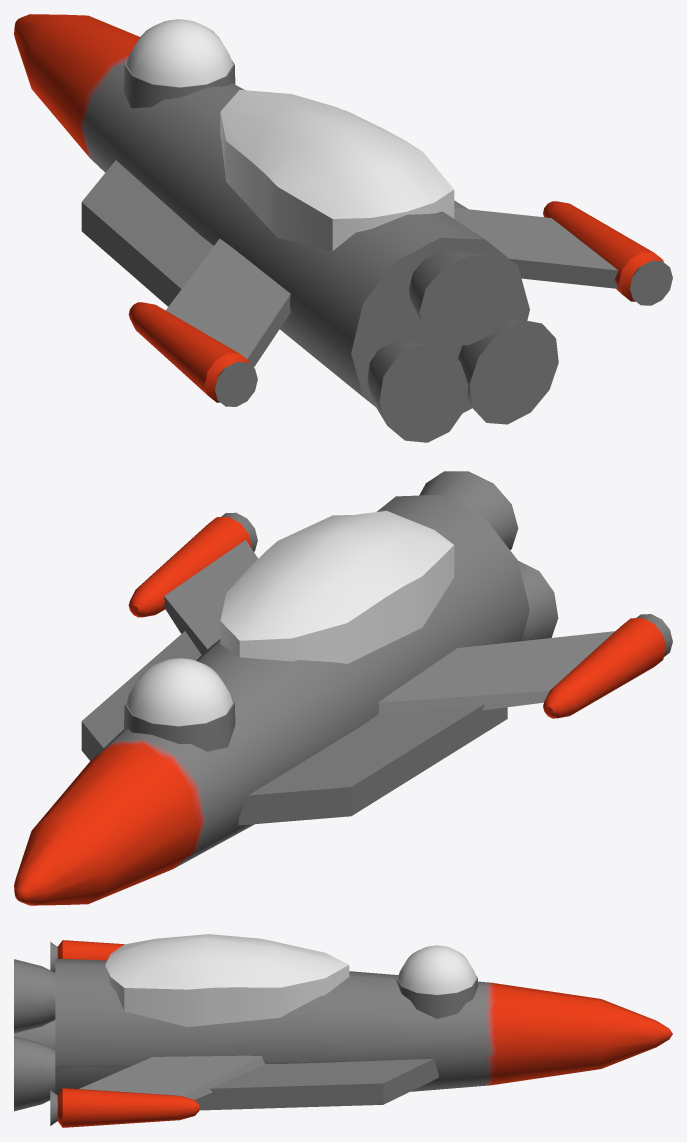
The model's file is StrongShip.fbx.
The picture shows the model from 3 angles, top to bottom: view 1: azimuth 30°, elevation 25°; view 2: azimuth 150°, elevation 25°; view 3: azimuth 270°, elevation 25°; orthographic projection. The views are drawn at different scales.
Visible parts, largest first — view 1: StrongShip; view 2: StrongShip; view 3: StrongShip.
Boxes of the visible parts, x1=… form: StrongShip: x1=14, y1=14, x2=672, y2=442; StrongShip: x1=14, y1=471, x2=672, y2=905; StrongShip: x1=14, y1=934, x2=672, y2=1127.
Bounding box in the file's own units: 399 × 183 × 673.
